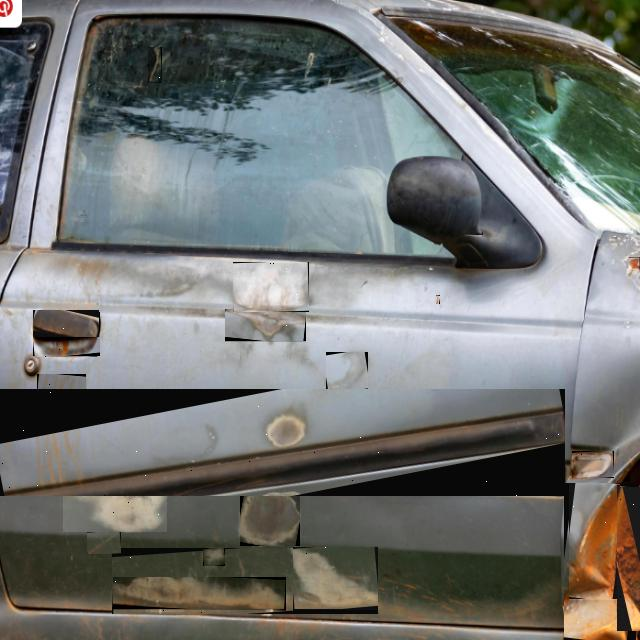Rust: (17, 413, 564, 495), (113, 548, 377, 613), (564, 487, 626, 639), (569, 486, 619, 595), (113, 577, 284, 608), (293, 549, 377, 608), (63, 483, 166, 531), (233, 263, 307, 311), (240, 489, 299, 545), (564, 592, 632, 639), (37, 375, 85, 440), (33, 312, 98, 355), (617, 487, 639, 611), (225, 309, 304, 340), (33, 310, 98, 336), (327, 352, 366, 390), (269, 413, 308, 444), (37, 336, 95, 356), (572, 452, 611, 477), (88, 531, 119, 553), (9, 480, 47, 493), (148, 47, 159, 82), (203, 548, 223, 565), (57, 341, 66, 355), (629, 258, 639, 269), (436, 296, 437, 303)
